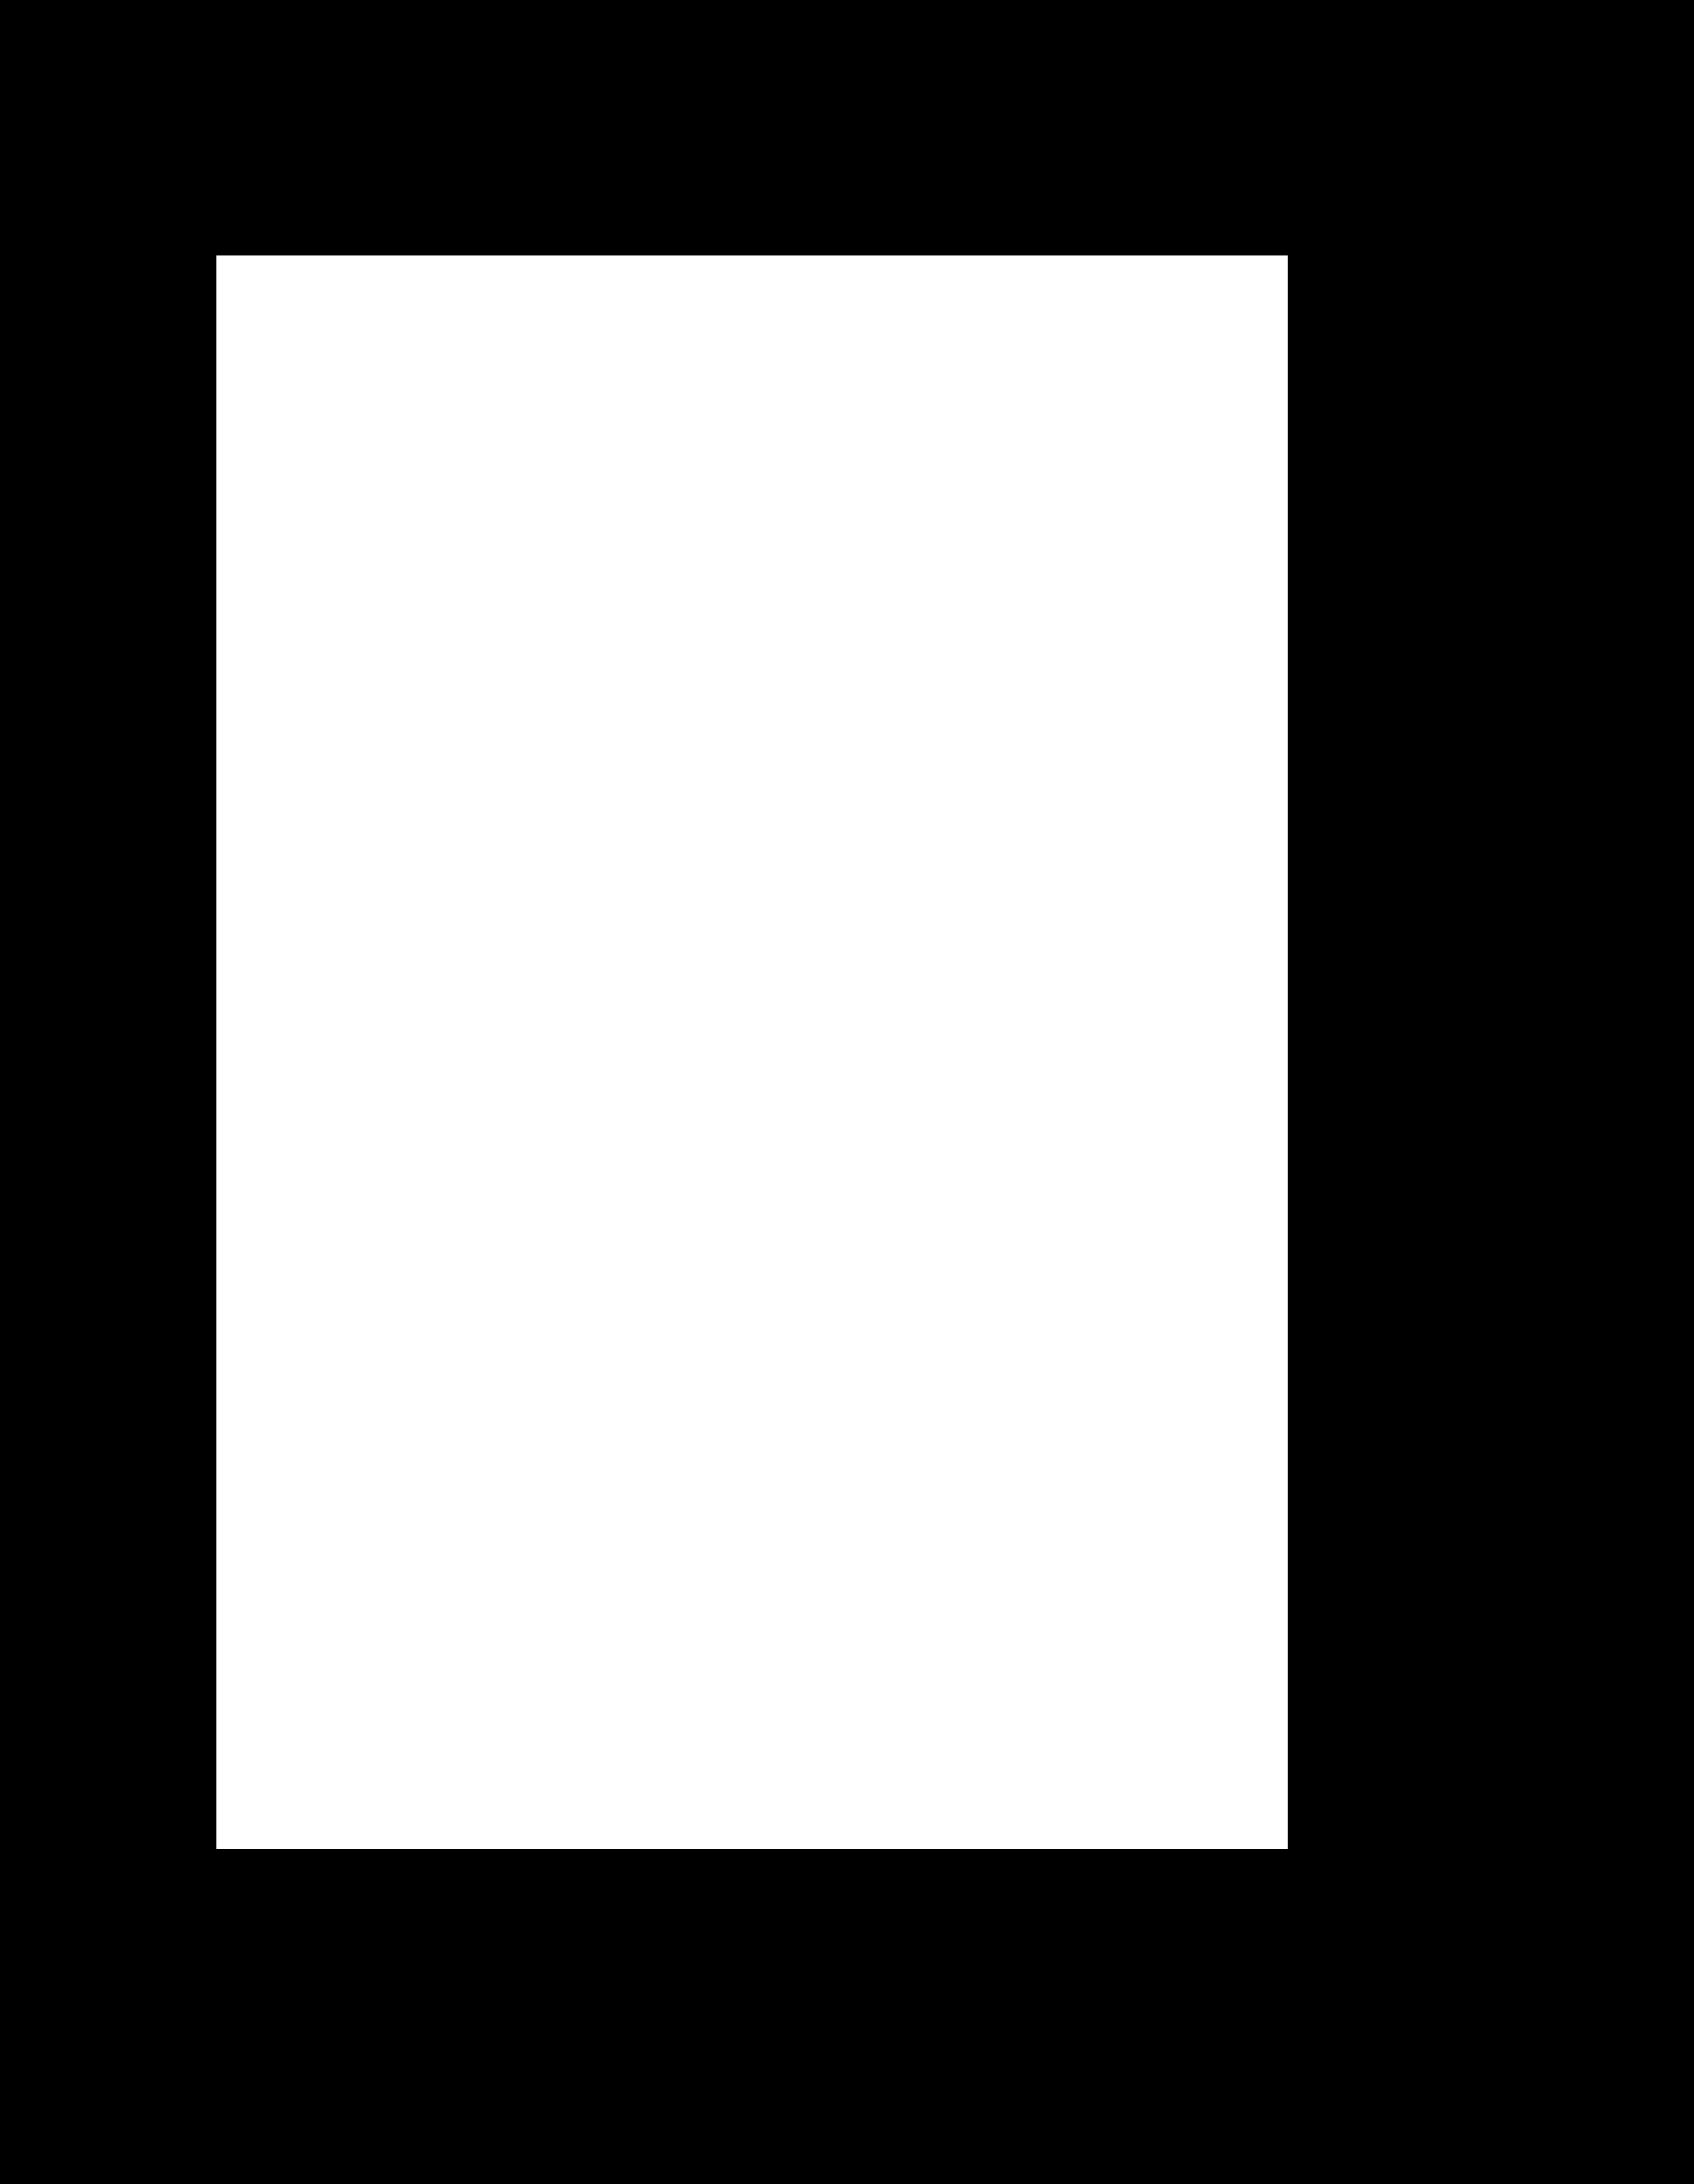table: (216, 255, 1286, 1849)
